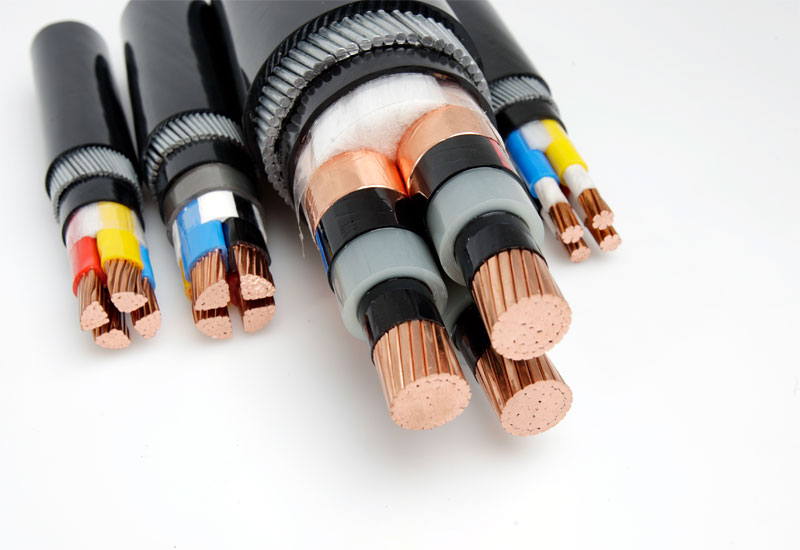Nonrec_Tangler: (15, 1, 681, 457)
